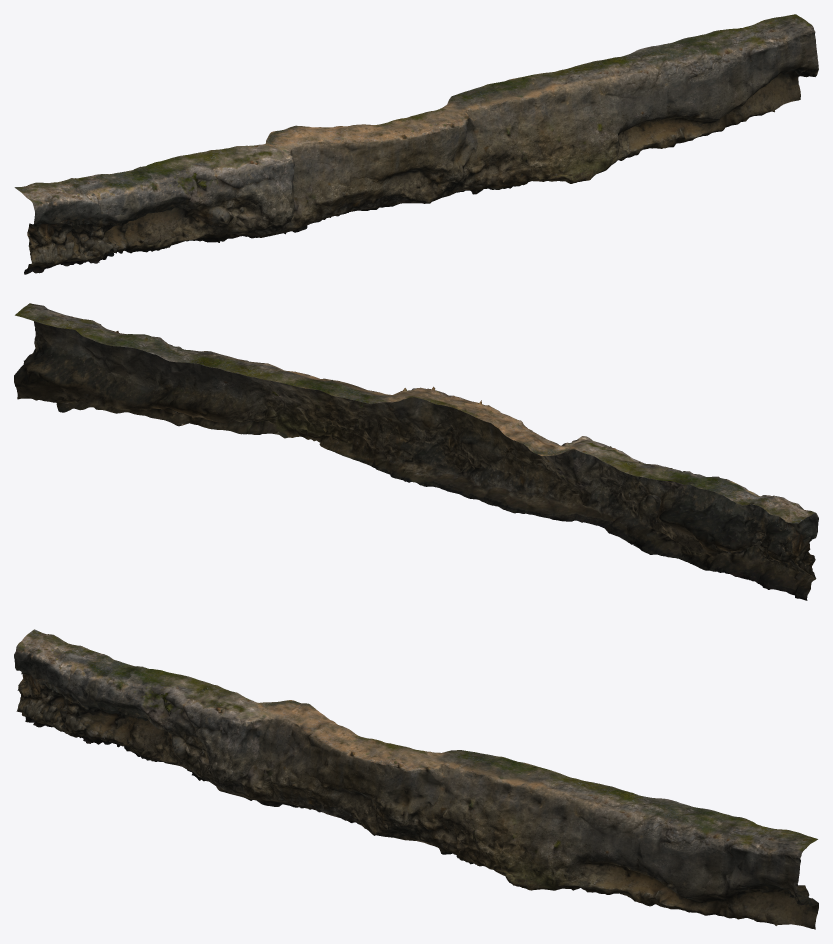
Rendered from coastal-cliff.gltf.
3 renders of one model, top to bottom at view 1: azimuth 30°, elevation 25°; view 2: azimuth 150°, elevation 25°; view 3: azimuth 330°, elevation 25°, orthographic. The views are drawn at different scales.
Parts seen in each view (by area): view 1: coastal_cliff_01; view 2: coastal_cliff_01; view 3: coastal_cliff_01.
Boxes of the visible parts, x1,y1,x2,y2 form: coastal_cliff_01: [14, 14, 818, 274]; coastal_cliff_01: [14, 303, 818, 600]; coastal_cliff_01: [14, 629, 818, 929].
Bounding box in the file's own units: 91.98 × 10.33 × 10.93.
Materials: 1 (1 with a texture image).
